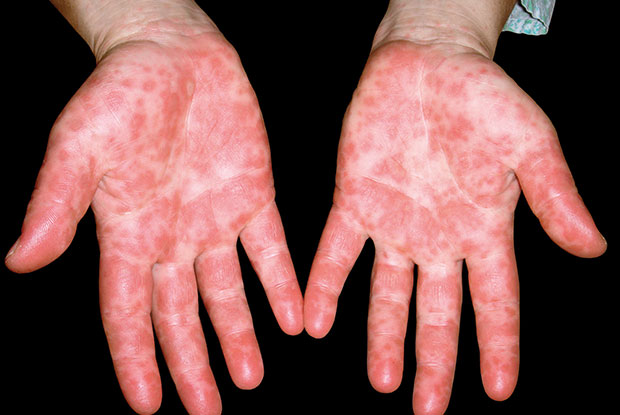Diseased: (101, 56, 499, 378)
